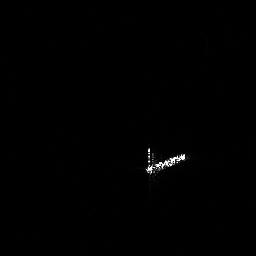ship: (141, 144, 190, 178)
